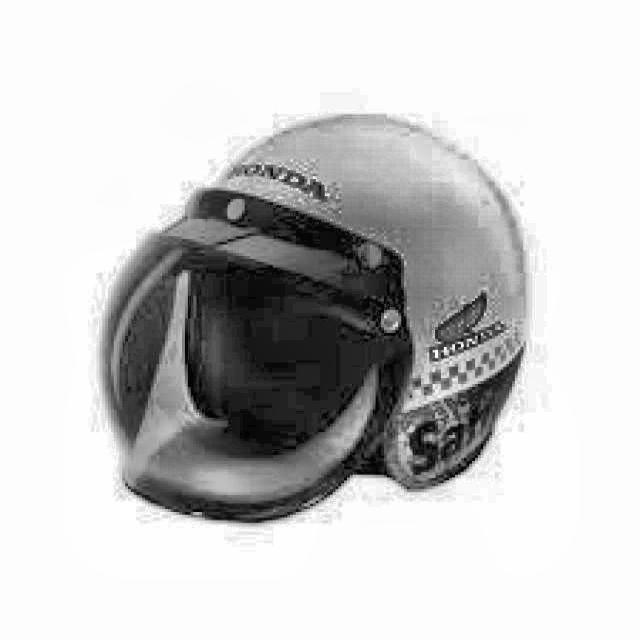Helmet: (86, 112, 541, 523)
